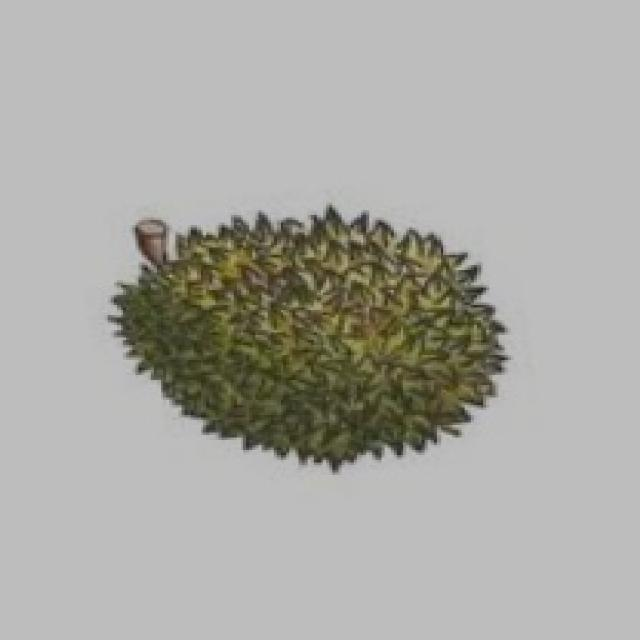fruit: (80, 178, 483, 522)
